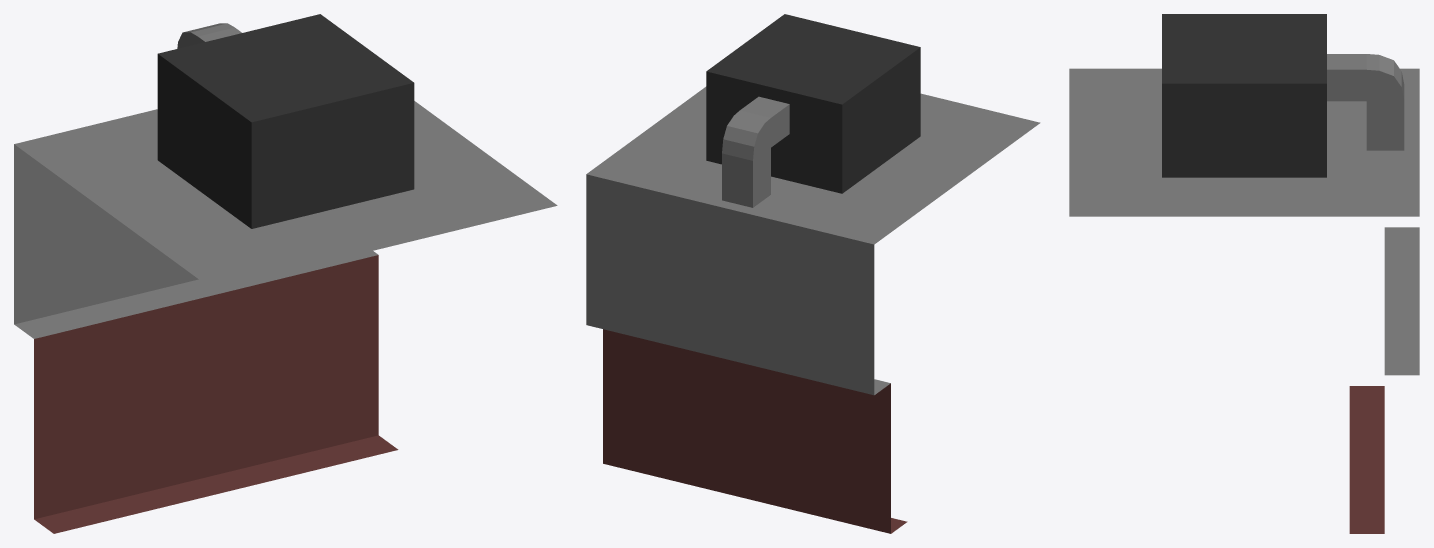
Rendered from Straight_Edge_Wall_Roof_Outer_Corner.obj.
3 views of the same model, side by side, from view 1: azimuth 30°, elevation 25°; view 2: azimuth 150°, elevation 25°; view 3: azimuth 270°, elevation 25° (orthographic). The views are drawn at different scales.
Visible parts, largest first — view 1: Straight_Edge_Wall_Roof_Outer_Corner; view 2: Straight_Edge_Wall_Roof_Outer_Corner; view 3: Straight_Edge_Wall_Roof_Outer_Corner.
Part boxes in pixels (box(x1,y1,x2,y2)): Straight_Edge_Wall_Roof_Outer_Corner: box(14, 14, 557, 533); Straight_Edge_Wall_Roof_Outer_Corner: box(586, 14, 1040, 533); Straight_Edge_Wall_Roof_Outer_Corner: box(1069, 14, 1419, 533).
Bounding box in the file's own units: 1 × 1.3 × 1.
